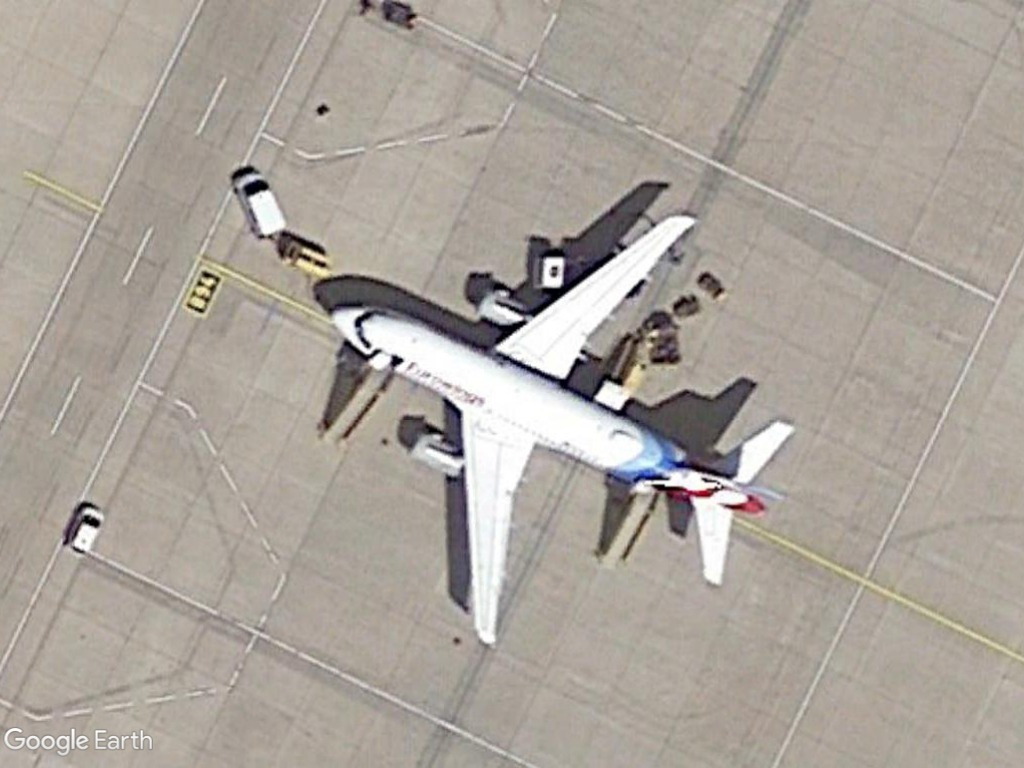airliner: (323, 205, 800, 654)
van: (231, 163, 290, 242), (60, 500, 111, 560)
